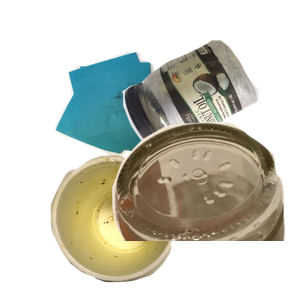glass: (89, 120, 300, 300)
paper: (52, 49, 209, 198)
plastic: (120, 37, 300, 185)
trash: (48, 152, 219, 300)
